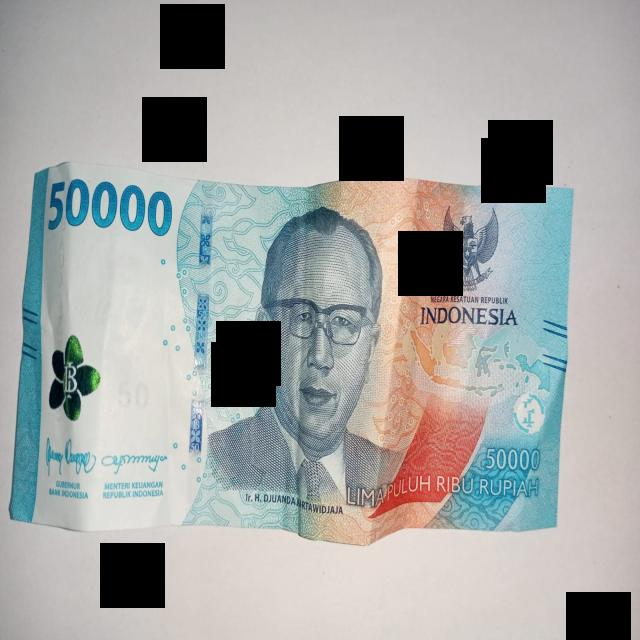lima puluh ribu rupiah: (10, 163, 572, 545)
